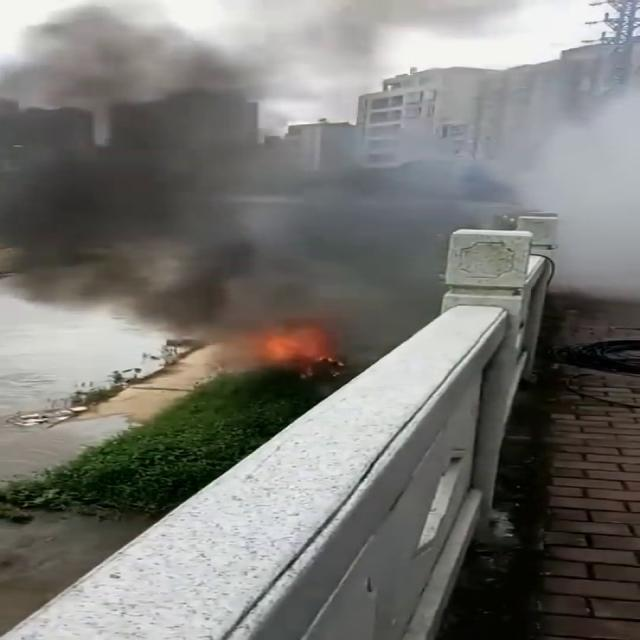Fire: (206, 317, 359, 378)
Smoke: (0, 0, 622, 327)
